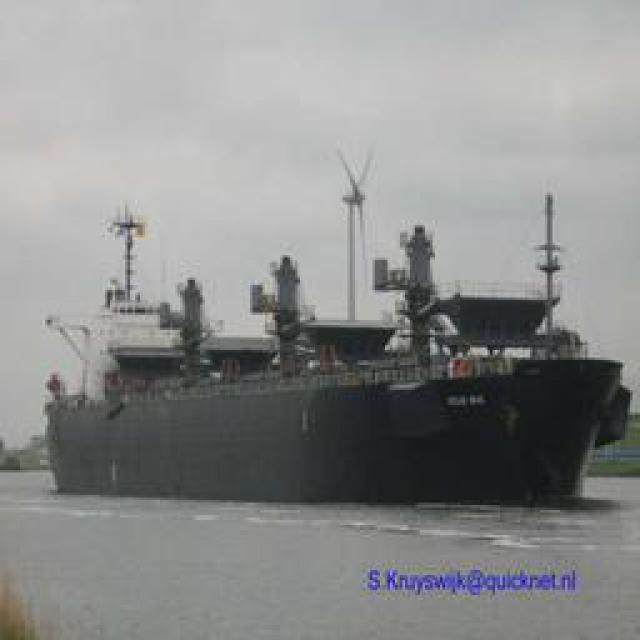Ship: (43, 188, 628, 514)
